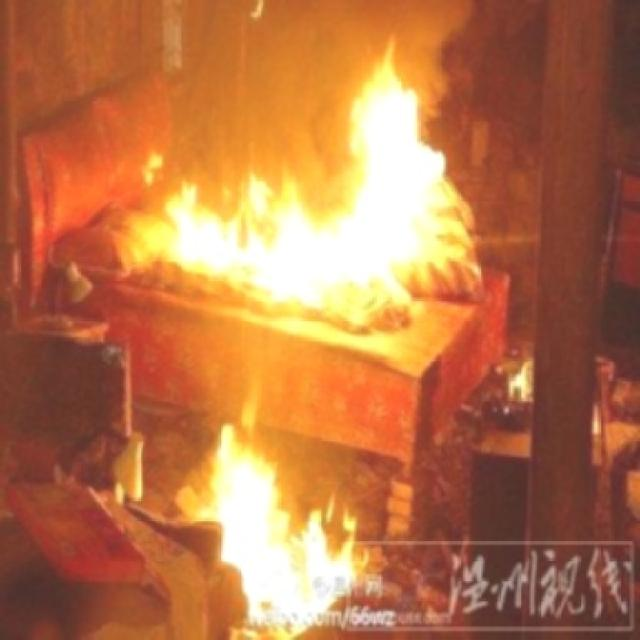fire: (121, 35, 496, 351), (155, 372, 357, 640)
